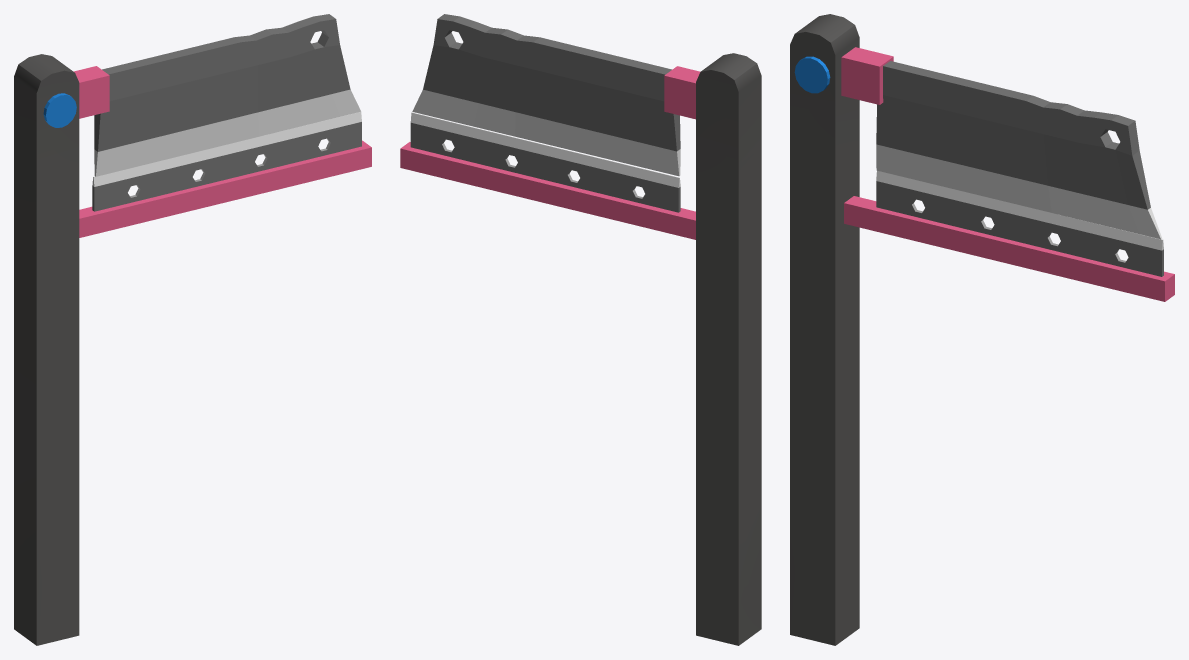
File: trap_014.fbx
3 renders of one model, left to right at view 1: azimuth 30°, elevation 25°; view 2: azimuth 150°, elevation 25°; view 3: azimuth 330°, elevation 25°, orthographic. The views are drawn at different scales.
Visible parts, largest first — view 1: trap_014_base, trap_014_knife; view 2: trap_014_base, trap_014_knife; view 3: trap_014_base, trap_014_knife.
Part boxes in pixels (<box>): trap_014_base: <box>14,54,371,645</box>; trap_014_knife: <box>43,14,360,176</box>; trap_014_base: <box>400,53,761,645</box>; trap_014_knife: <box>412,14,700,176</box>; trap_014_base: <box>790,14,1174,645</box>; trap_014_knife: <box>794,47,1162,239</box>.
Size of the model in its own units: 1657 by 2622 by 210.
